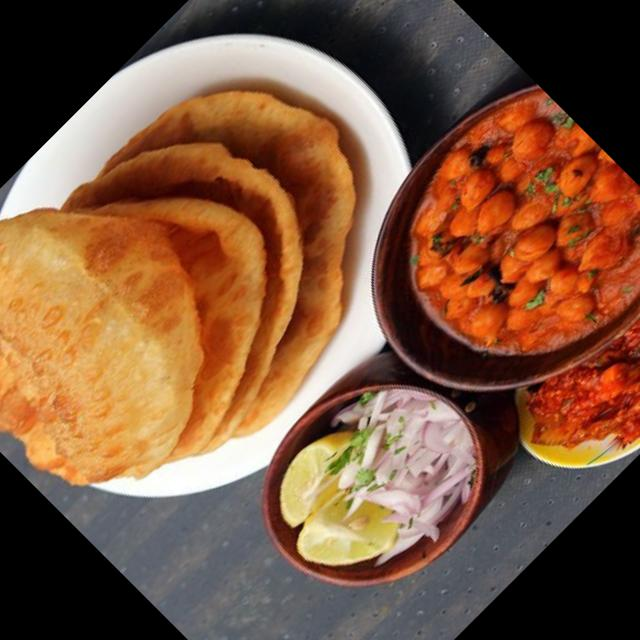Bhatura: (0, 4, 449, 562)
Chole: (363, 78, 640, 403)
